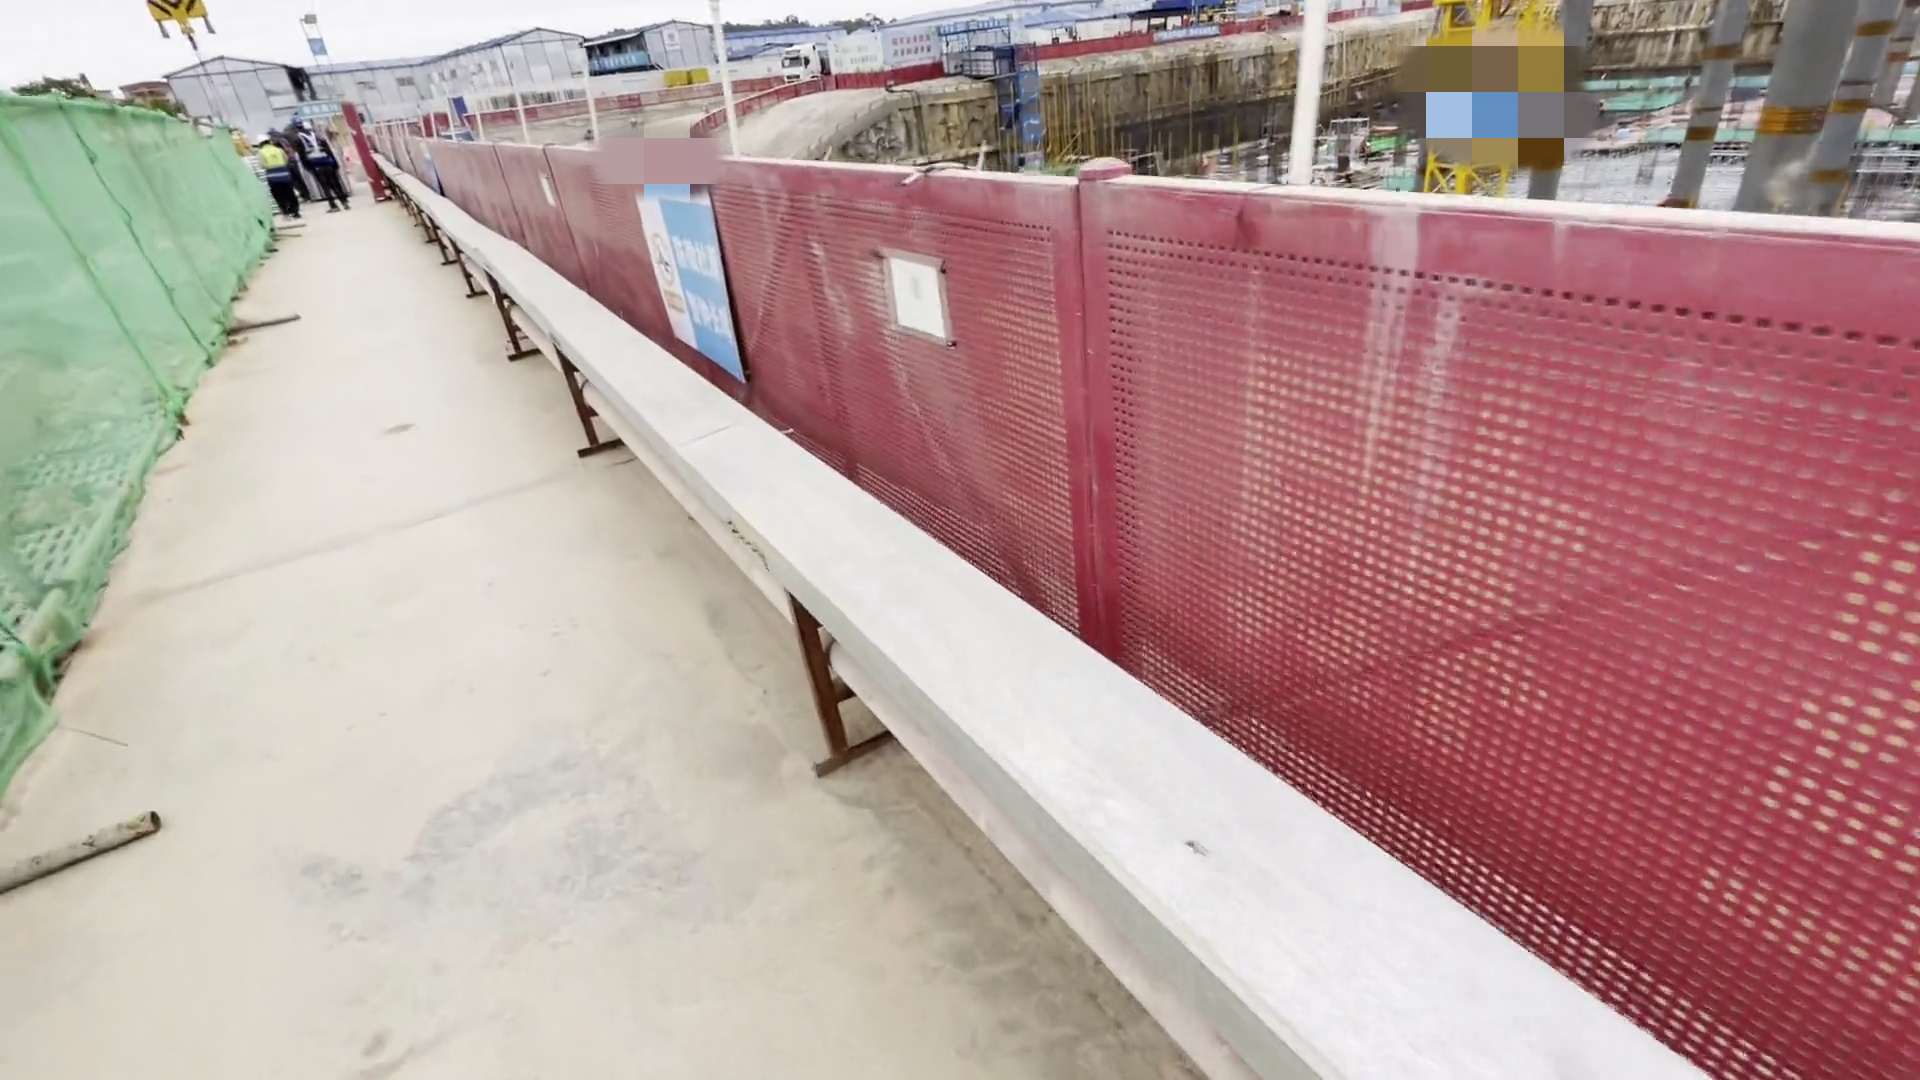fence: (291, 102, 1880, 1057)
helmet: (255, 130, 280, 152)
hook: (146, 1, 229, 70)
person: (296, 114, 360, 224), (244, 125, 306, 223)
slogan: (637, 179, 753, 377)
vest: (296, 131, 340, 179), (257, 142, 298, 175)
